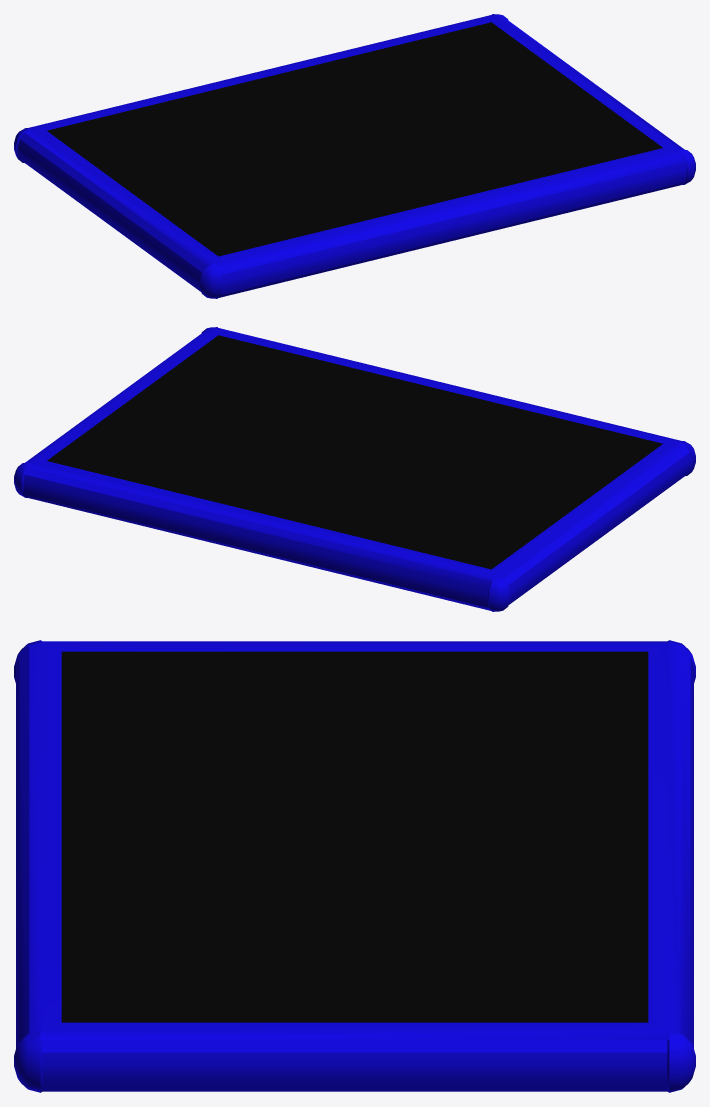
File: Tablet.fbx
3 renders of one model, top to bottom at view 1: azimuth 30°, elevation 25°; view 2: azimuth 150°, elevation 25°; view 3: azimuth 270°, elevation 25°, orthographic. The views are drawn at different scales.
Parts seen in each view (by area): view 1: Tablet; view 2: Tablet; view 3: Tablet.
Part boxes in pixels (x1,y1,x2,y2): Tablet: (14, 14, 695, 298); Tablet: (14, 327, 695, 611); Tablet: (14, 640, 695, 1092).
Size of the model in its own units: 0.2514 by 0.0168 by 0.176.
